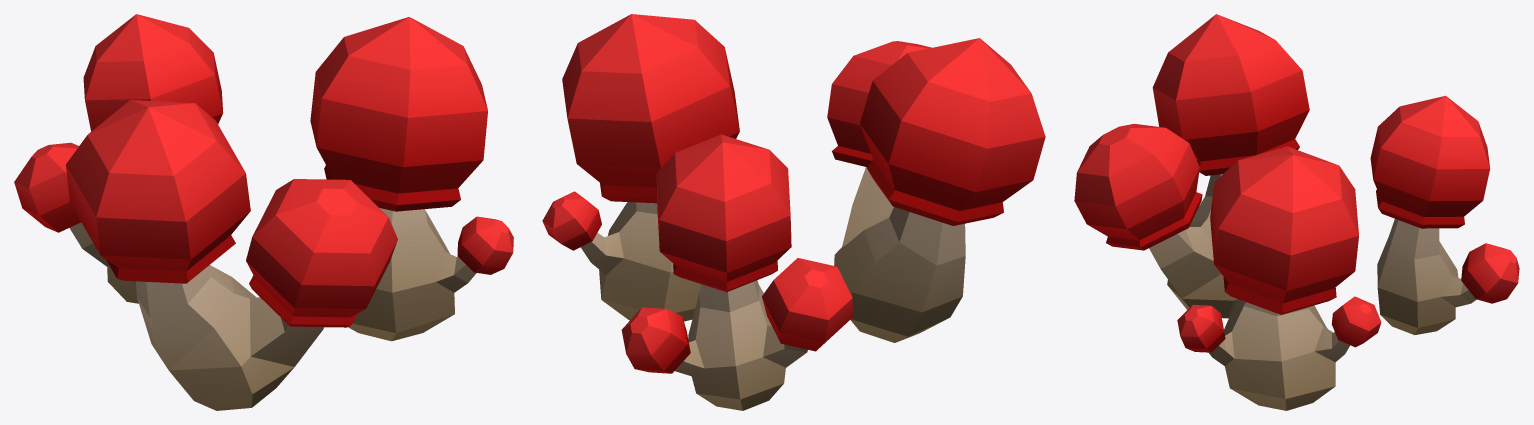
The model's file is Mushroom_Red_Clump_03.fbx.
The picture shows the model from 3 angles, left to right: view 1: azimuth 30°, elevation 25°; view 2: azimuth 150°, elevation 25°; view 3: azimuth 270°, elevation 25°; orthographic projection. The views are drawn at different scales.
Parts seen in each view (by area): view 1: Mushroom_Red_Clump_03; view 2: Mushroom_Red_Clump_03; view 3: Mushroom_Red_Clump_03.
Part boxes in pixels (x1=…): Mushroom_Red_Clump_03: x1=14, y1=14, x2=513, y2=410; Mushroom_Red_Clump_03: x1=542, y1=14, x2=1045, y2=410; Mushroom_Red_Clump_03: x1=1074, y1=14, x2=1519, y2=410.
Bounding box in the file's own units: 59.8 × 41.47 × 62.43.
